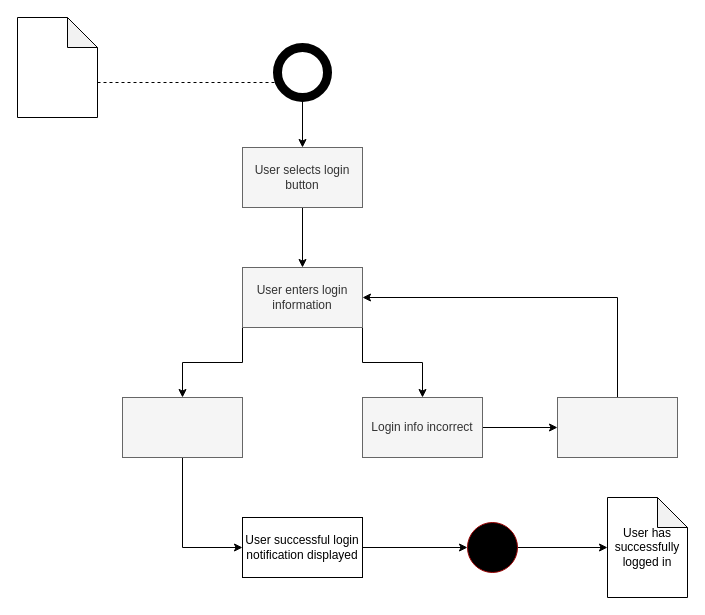
This 705x615 diagram has some shape labels left out. The shapes that lost their labels are listed below. From the top down, each one's centre as x and y in pixels, then its label:
point (57, 67): User is registered but not logged in
point (182, 427): Login info correct
point (617, 427): Incorrect Login notification displayed
